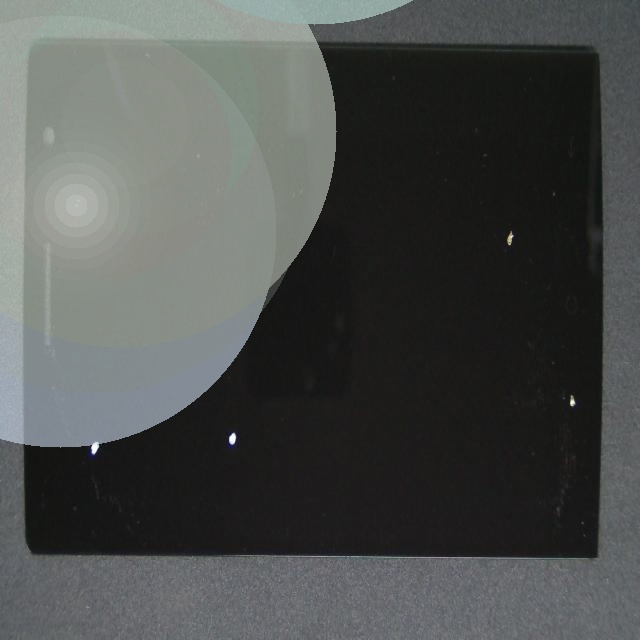stain: (299, 261, 640, 620), (258, 68, 640, 343), (116, 179, 338, 639), (43, 188, 129, 640)
